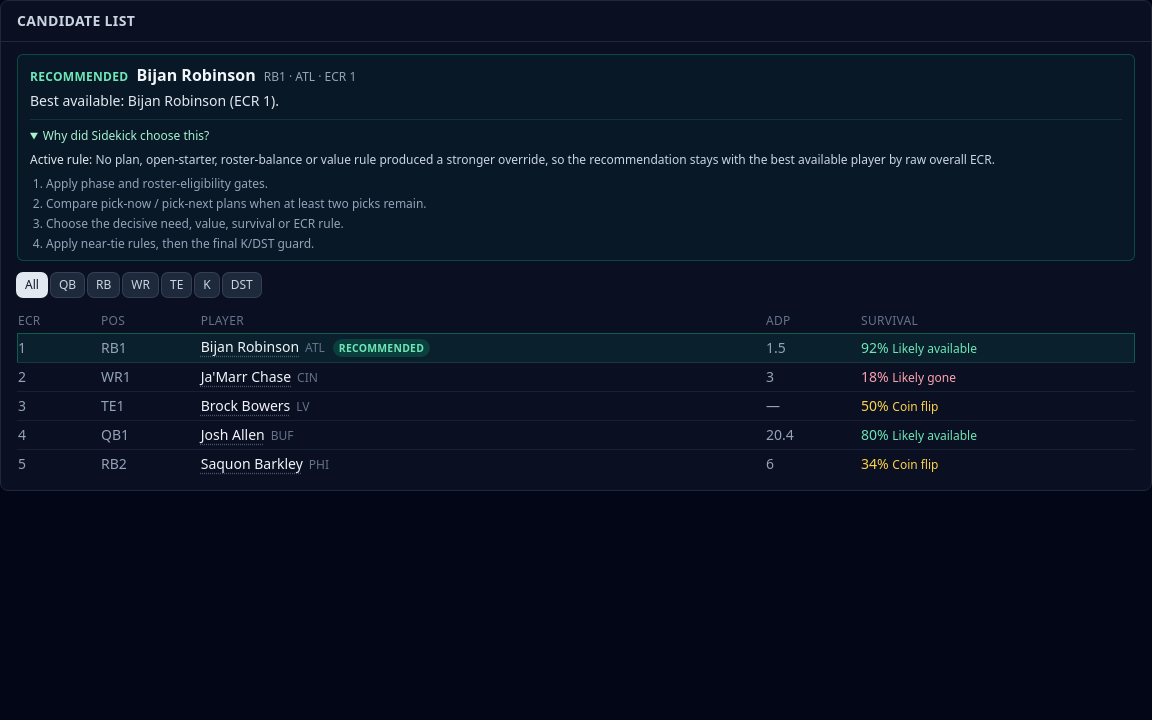
Test: the per-player explanation card (FR-9) › explains why the hovered player was passed over, verbatim from the server
Hover over the button "Ja'Marr Chase": [246, 377] box x1=201 y1=367 x2=291 y2=387
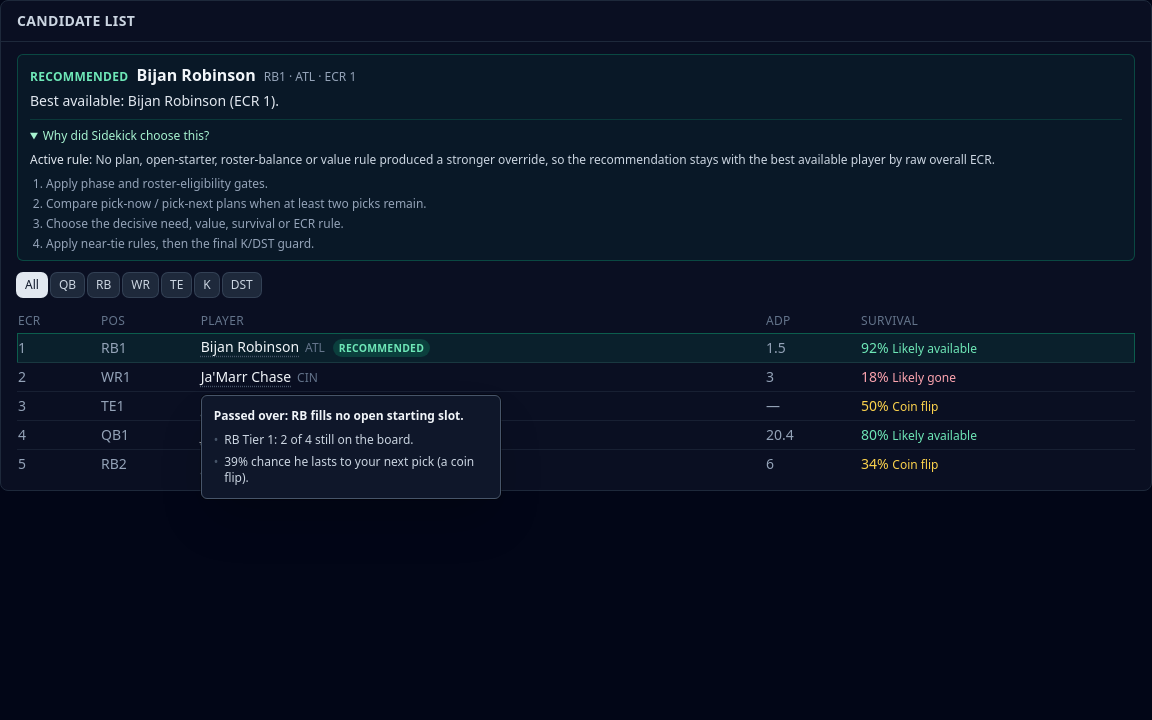
Expected: the tooltip shows "Passed over: RB fills no open starting slot.", x1=214 y1=407 x2=464 y2=424
Expected: the tooltip shows "RB Tier 1: 2 of 4 still on the board.", x1=224 y1=431 x2=414 y2=448
Expected: the tooltip shows "39% chance he lasts to your next pick", x1=224 y1=453 x2=474 y2=486
